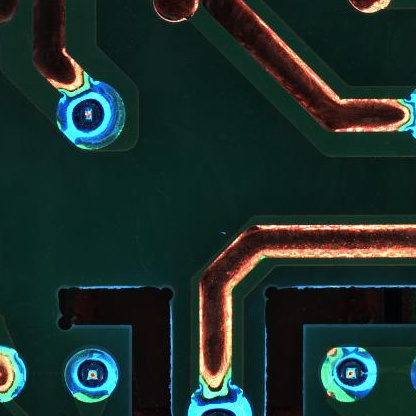spot: (56, 79, 130, 153), (59, 344, 123, 403), (318, 344, 380, 404)
